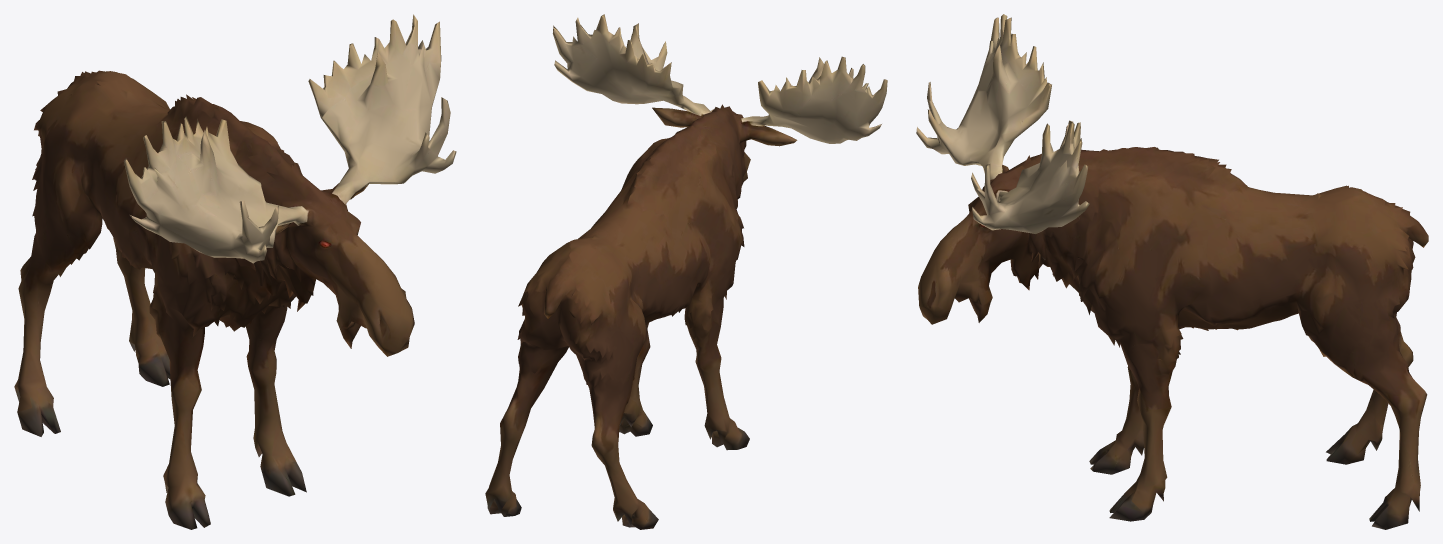
File: moose.glb
3 renders of one model, left to right at view 1: azimuth 30°, elevation 25°; view 2: azimuth 150°, elevation 25°; view 3: azimuth 270°, elevation 25°, orthographic. The views are drawn at different scales.
Visible parts, largest first — view 1: tripo_node_7a388cd1-b597-4206-a33d-97170cf4bba0; view 2: tripo_node_7a388cd1-b597-4206-a33d-97170cf4bba0; view 3: tripo_node_7a388cd1-b597-4206-a33d-97170cf4bba0.
Part boxes in pixels (bbox=[...]): tripo_node_7a388cd1-b597-4206-a33d-97170cf4bba0: bbox=[14, 14, 456, 529]; tripo_node_7a388cd1-b597-4206-a33d-97170cf4bba0: bbox=[485, 14, 887, 529]; tripo_node_7a388cd1-b597-4206-a33d-97170cf4bba0: bbox=[916, 14, 1428, 529].
Size of the model in its own units: 0.7396 by 0.9196 by 1.
1 material, 1 textured.
